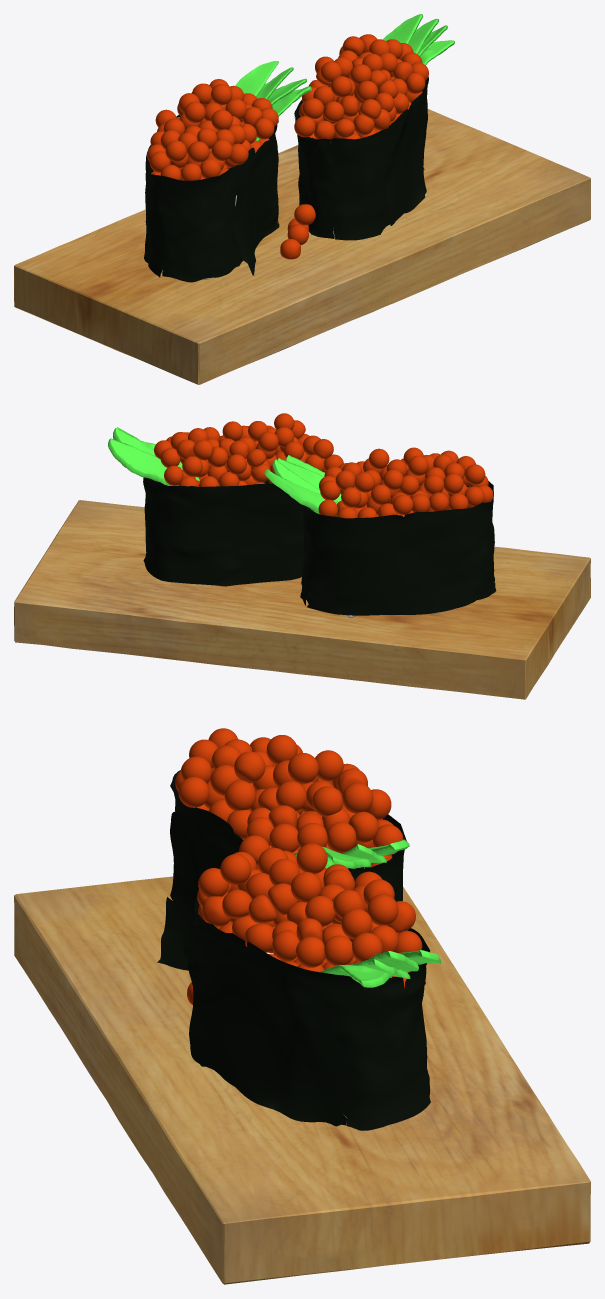
File: salmonroe.fbx
3 views of the same model, one above another, from view 1: azimuth 30°, elevation 25°; view 2: azimuth 150°, elevation 25°; view 3: azimuth 270°, elevation 25° (orthographic). The views are drawn at different scales.
Visible parts, largest first — view 1: wood, seaweed (×2), cucumber4 (×2); view 2: wood, seaweed (×2), cucumber4 (×2), cucumber3 (×2), cucumber2; view 3: wood, seaweed (×2), cucumber1, salmonroe_out_146, salmonroe_out_042, salmonroe_out_131, salmonroe_out_115, salmonroe_out_044, salmonroe_out_202, salmonroe_out_045, salmonroe_out_143, salmonroe_out_022 (+7 smaller).
Part boxes in pixels (x1=…): wood: x1=14, y1=109, x2=590, y2=384; seaweed (×2): x1=144, y1=76, x2=428, y2=282; cucumber4 (×2): x1=235, y1=14, x2=423, y2=96; wood: x1=14, y1=500, x2=590, y2=699; seaweed (×2): x1=143, y1=477, x2=496, y2=615; cucumber4 (×2): x1=108, y1=438, x2=337, y2=516; cucumber3 (×2): x1=113, y1=427, x2=338, y2=513; cucumber2: x1=277, y1=458, x2=341, y2=501; wood: x1=14, y1=876, x2=590, y2=1284; seaweed (×2): x1=157, y1=770, x2=430, y2=1130; cucumber1: x1=321, y1=965, x2=393, y2=987; salmonroe_out_146: x1=234, y1=751, x2=265, y2=783; salmonroe_out_042: x1=367, y1=894, x2=398, y2=925; salmonroe_out_131: x1=224, y1=780, x2=255, y2=810; salmonroe_out_115: x1=178, y1=777, x2=209, y2=807; salmonroe_out_044: x1=220, y1=854, x2=251, y2=884; salmonroe_out_202: x1=288, y1=753, x2=318, y2=783; salmonroe_out_045: x1=296, y1=843, x2=327, y2=874; salmonroe_out_143: x1=342, y1=783, x2=373, y2=813; salmonroe_out_022: x1=295, y1=936, x2=324, y2=967.
Bounding box in the file's own units: 13.66 × 4.96 × 8.99.
